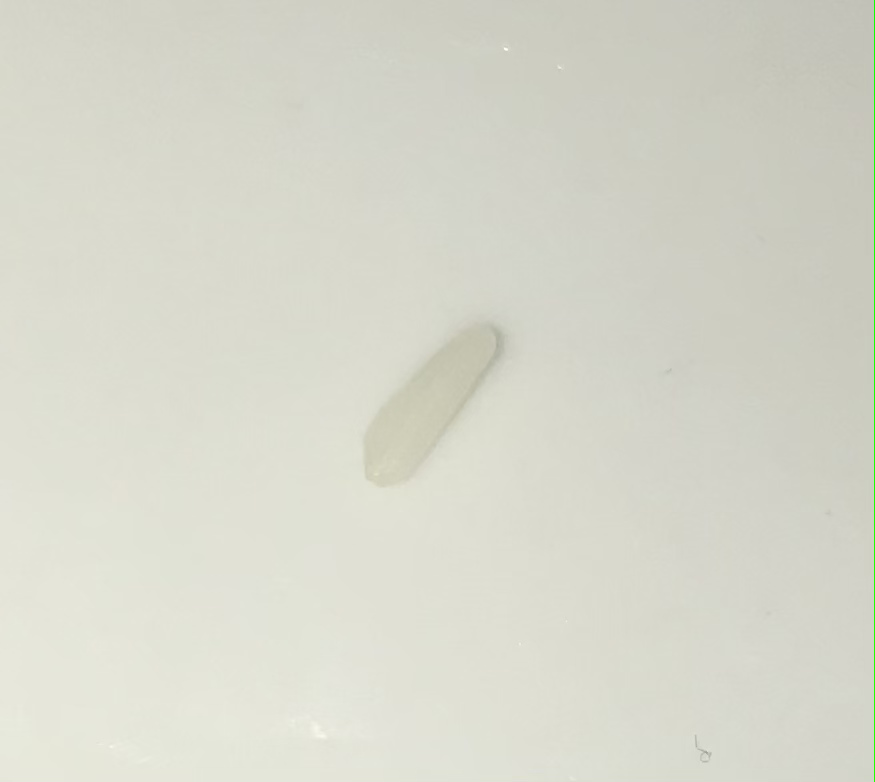Gao Thom Go Cong: (357, 296, 516, 500)
